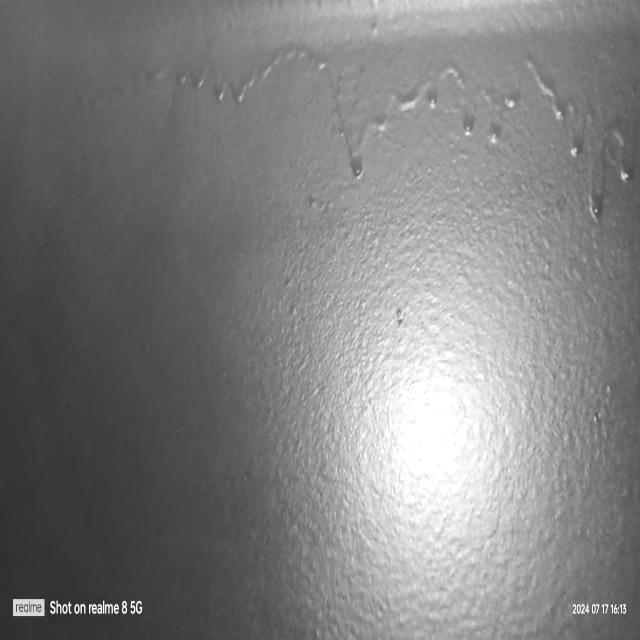paint drips: (133, 44, 640, 242)
